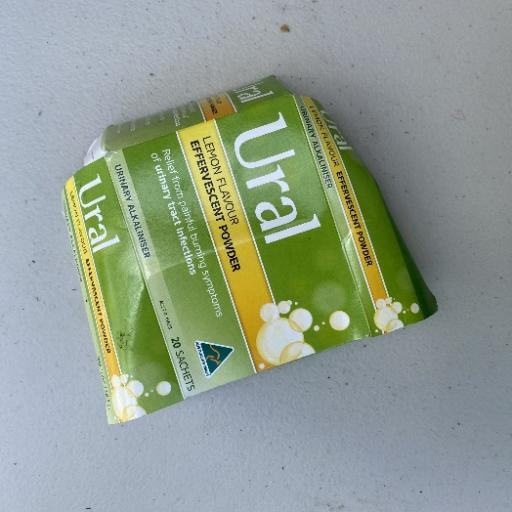Cardboard: (60, 73, 438, 424)
